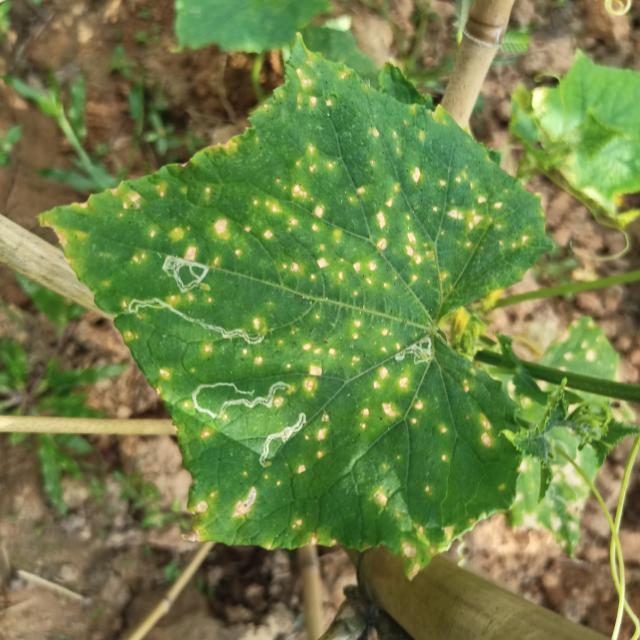disease_cucumber: (95, 68, 513, 286), (355, 363, 475, 465), (297, 314, 401, 400), (373, 488, 453, 580), (186, 474, 279, 523), (296, 411, 332, 484), (290, 515, 340, 553), (200, 342, 265, 369), (475, 412, 497, 452), (168, 292, 210, 307)
